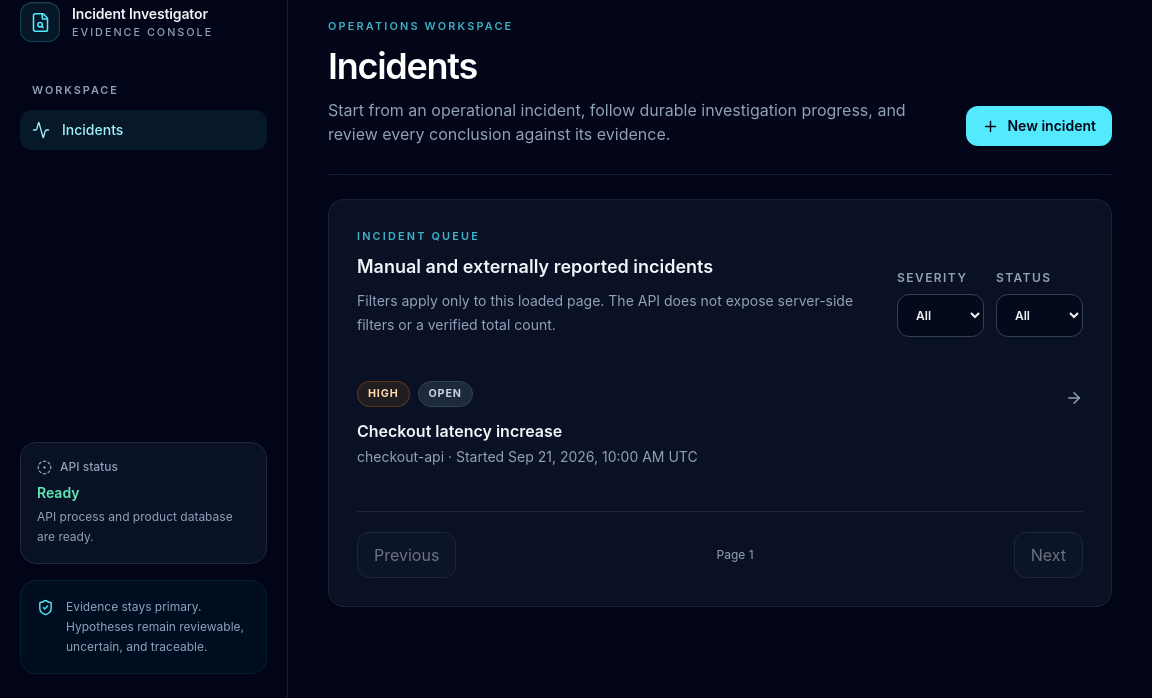
App foundation › navigates to manual incident intake
Click the link "New incident" at coordinates (1039, 126), box [966,106,1112,146]
(page scrolled)
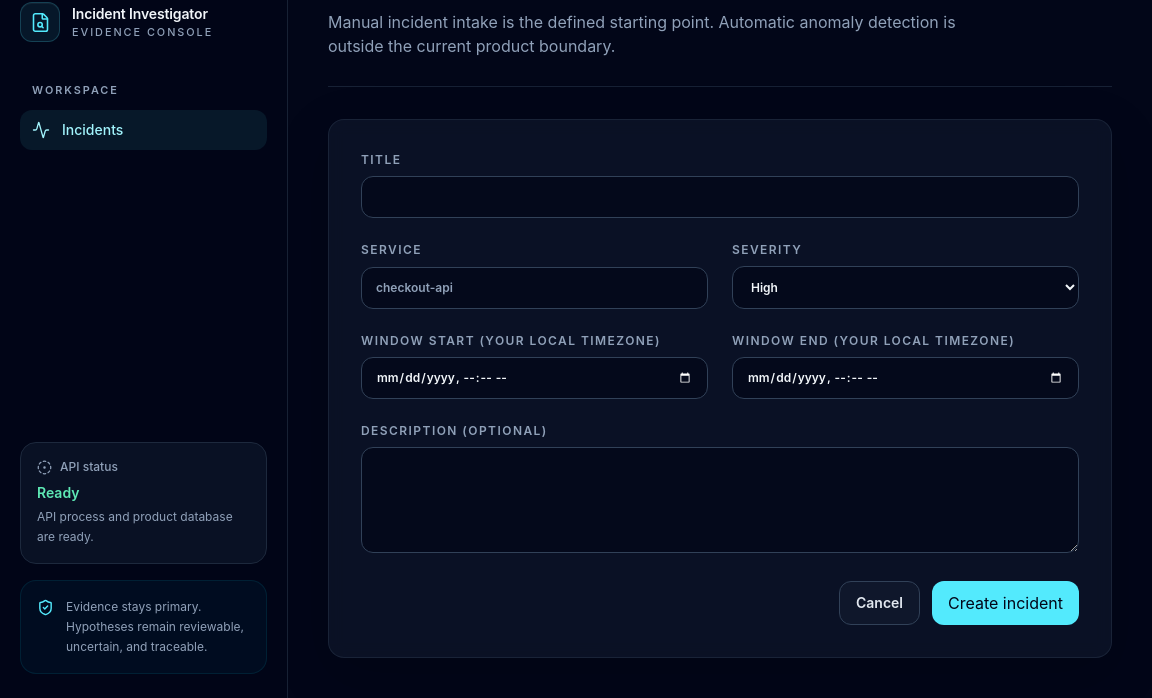
Expected: the text "automatic anomaly detection is outside" is shown, [328,12,956,56]
Expected: the button "Create incident" is shown, [932,581,1079,625]
